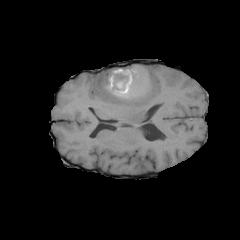glioma: (92, 64, 158, 120)
